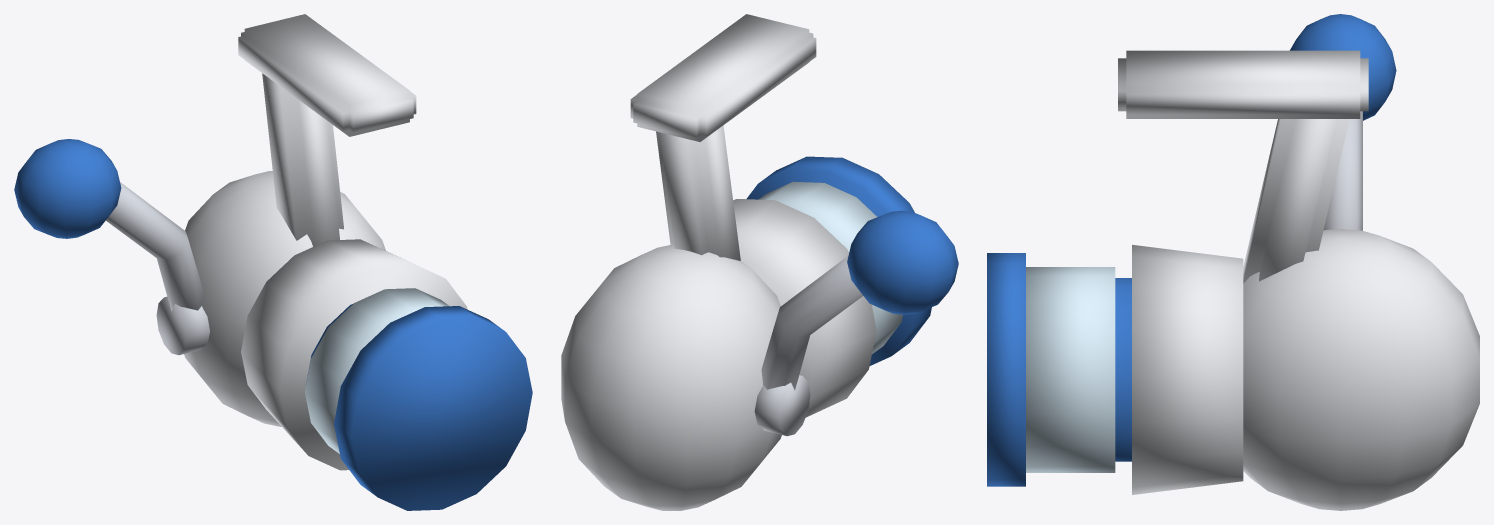
The model's file is reel_light.fbx.
3 views of the same model, side by side, from view 1: azimuth 30°, elevation 25°; view 2: azimuth 150°, elevation 25°; view 3: azimuth 270°, elevation 25° (orthographic). The views are drawn at different scales.
Visible parts, largest first — view 1: Body, Crank; view 2: Body, Crank; view 3: Body, Crank.
Boxes of the visible parts, x1,y1,x2,y2 form: Body: (184, 14, 532, 510); Crank: (14, 139, 209, 355); Body: (561, 14, 931, 510); Crank: (754, 210, 958, 436); Body: (987, 50, 1479, 510); Crank: (1290, 14, 1396, 230).
Size of the model in its own units: 0.0971 by 0.1 by 0.1029.
